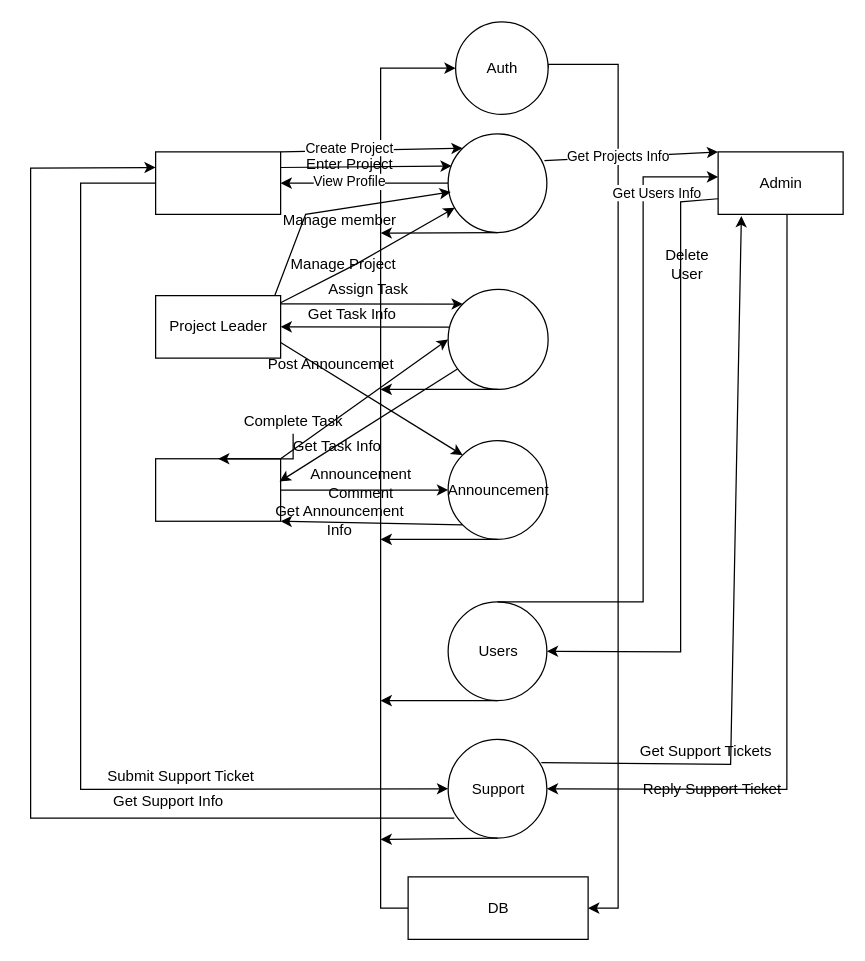
Image size: 865x961. Some labels were removed from this diagram. The centre of each missing label's shape, as x and y in pixels:
"Project" goes at point 497,182.
"Project Member" goes at point 217,489.
"Task" goes at point 497,338.
"User" goes at point 217,182.
